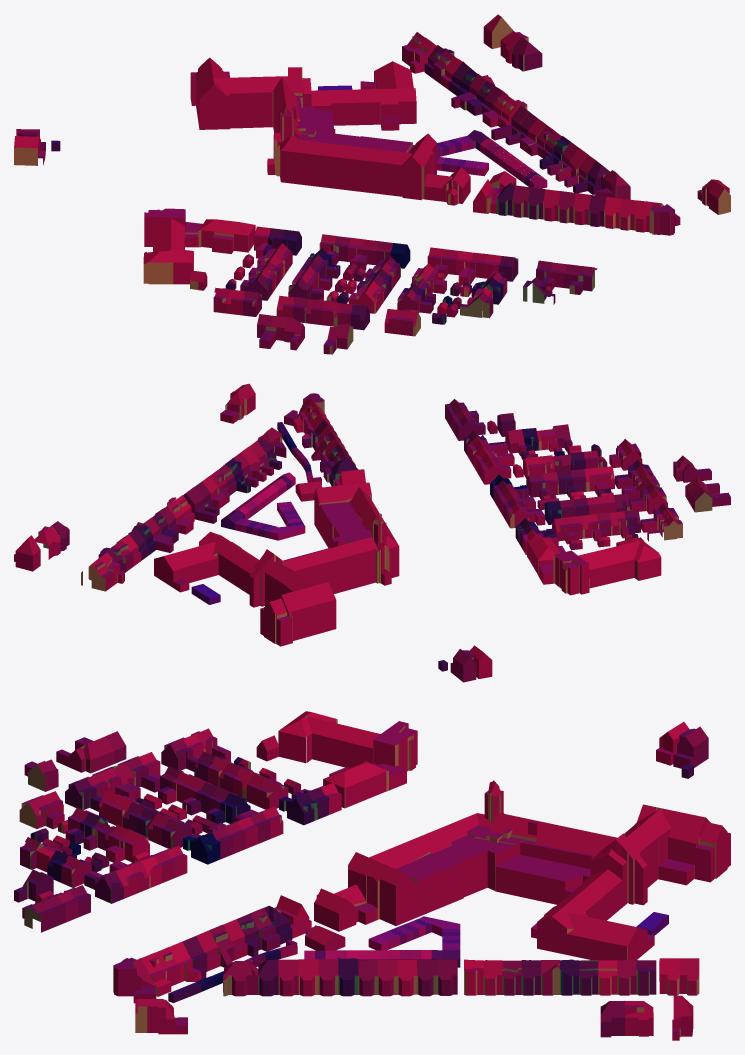
Rendered from buildings_8_13.glb.
The picture shows the model from 3 angles, top to bottom: view 1: azimuth 30°, elevation 25°; view 2: azimuth 150°, elevation 25°; view 3: azimuth 270°, elevation 25°; orthographic projection. The views are drawn at different scales.
Visible parts, largest first — view 1: buildings_8_13; view 2: buildings_8_13; view 3: buildings_8_13.
Part boxes in pixels (box(x1,y1,x2,y2)): buildings_8_13: box(14, 14, 730, 354); buildings_8_13: box(14, 383, 730, 682); buildings_8_13: box(14, 711, 730, 1040).
Size of the model in its own units: 219 by 27.58 by 217.
